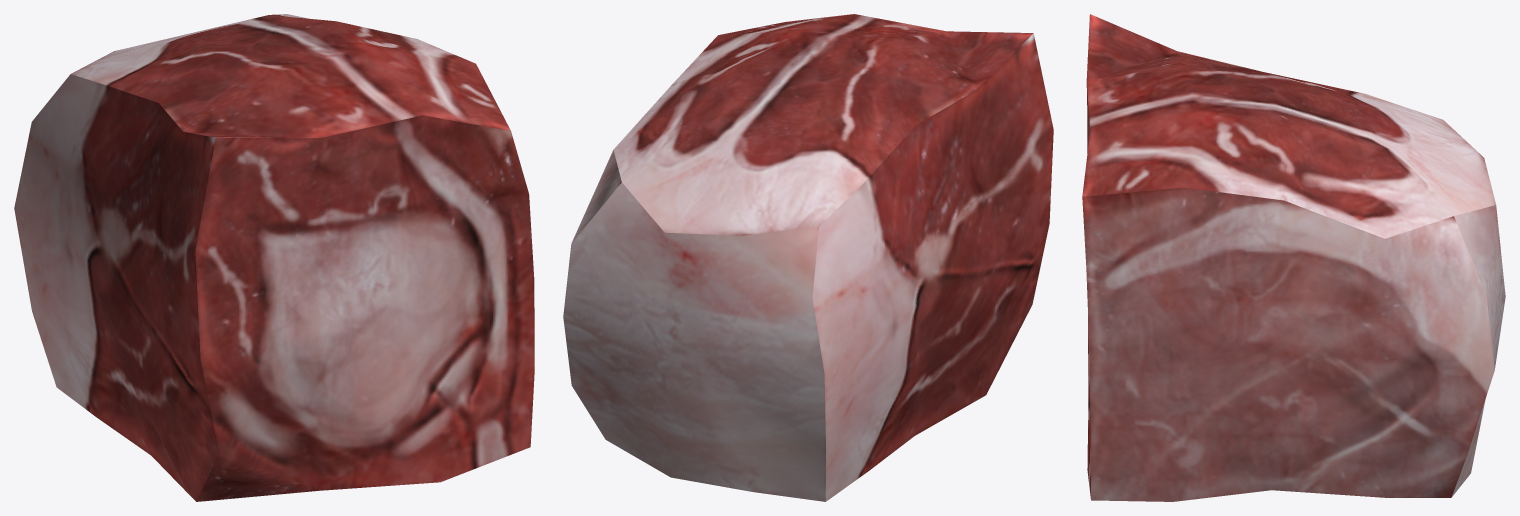
File: zhurou.FBX
3 views of the same model, side by side, from view 1: azimuth 30°, elevation 25°; view 2: azimuth 150°, elevation 25°; view 3: azimuth 270°, elevation 25° (orthographic). The views are drawn at different scales.
Parts seen in each view (by area): view 1: Box01; view 2: Box01; view 3: Box01.
Boxes of the visible parts, <box> form: Box01: <box>14,14,534,501</box>; Box01: <box>563,14,1053,501</box>; Box01: <box>1082,14,1505,501</box>.
Bounding box in the file's own units: 19.78 × 22.11 × 23.02.
Materials: 1 (1 with a texture image).
